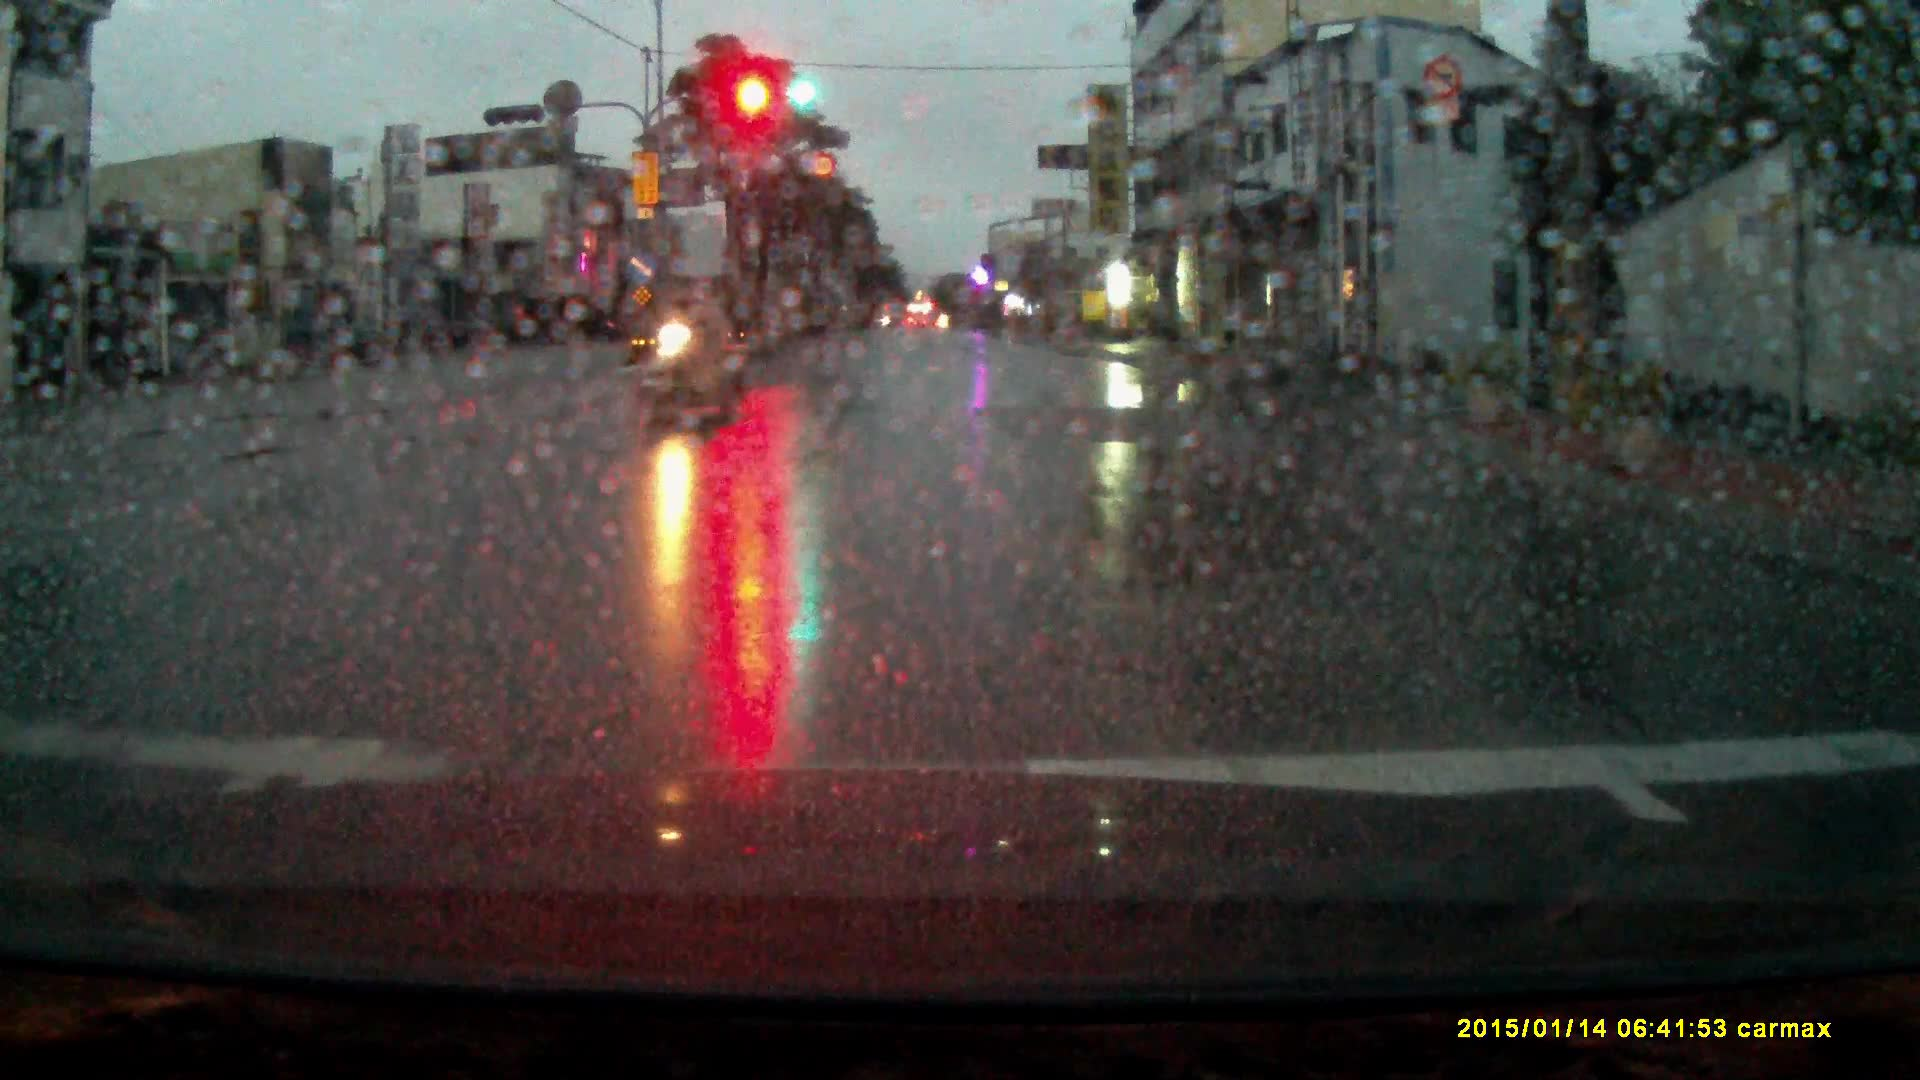rider: (639, 266, 751, 428)
